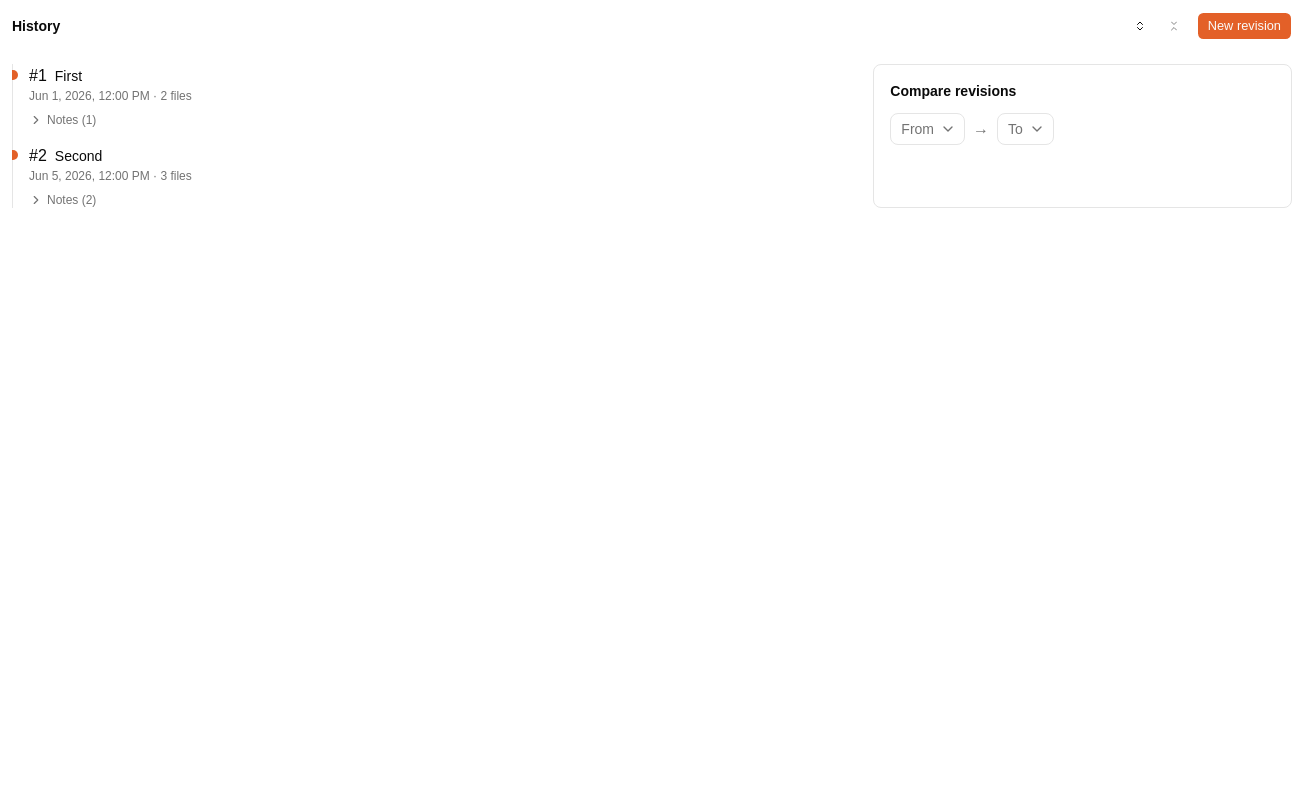
RevisionsTab -- notes drawer expand/collapse-all (Round 11 T7) › expand-all opens every revision's drawer and reveals its notes
Check: the button "Notes (1)" is shown, box [29, 112, 96, 128]
Click the button named "Expand all revision notes". click: (1140, 26)
box: [1125, 14, 1155, 38]
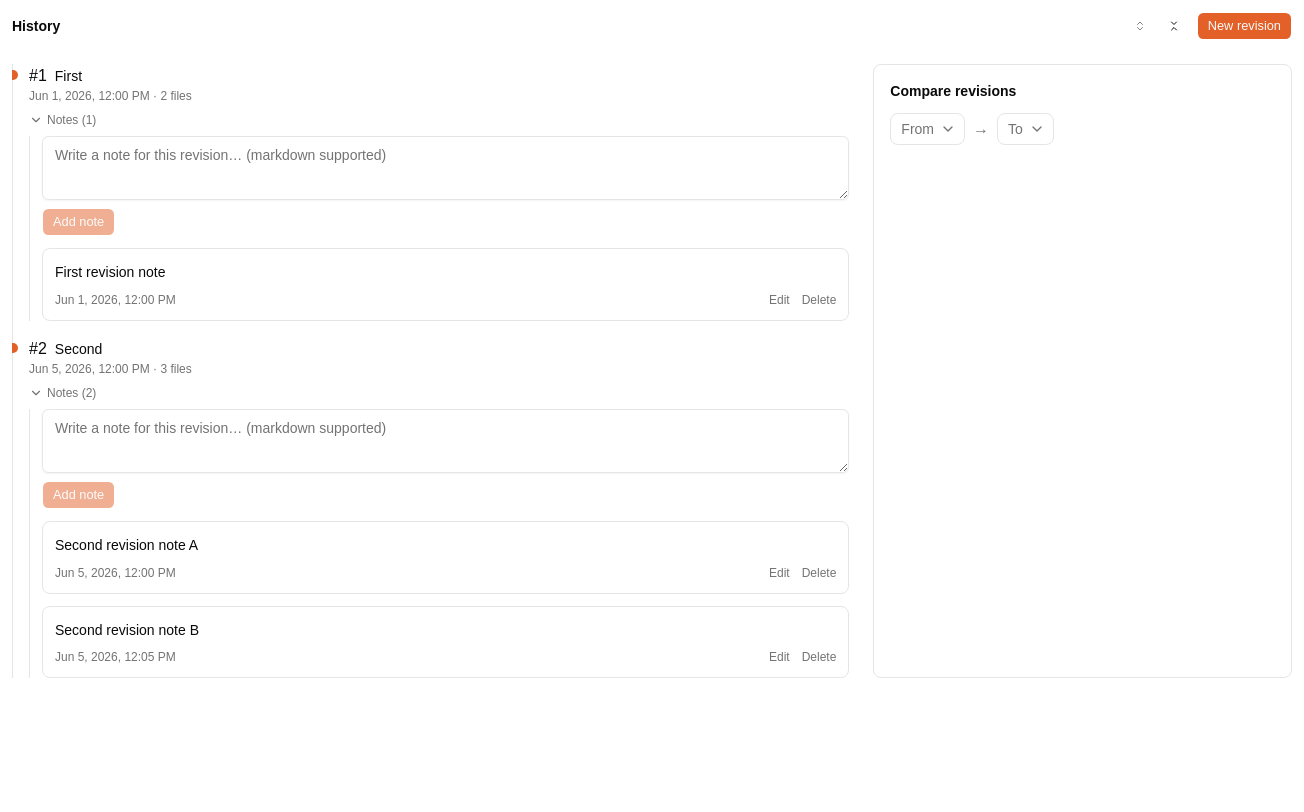
Check: the button "Notes (1)" is expanded, box [29, 112, 96, 128]
Check: the button "Notes (2)" is expanded, box [29, 385, 96, 401]
Check: the text "First revision note" is shown, box [55, 264, 166, 280]
